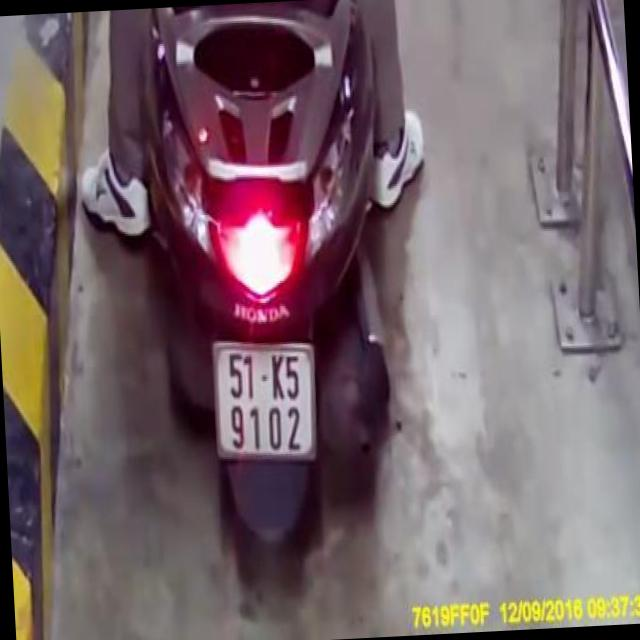LP: (210, 330, 323, 468)
